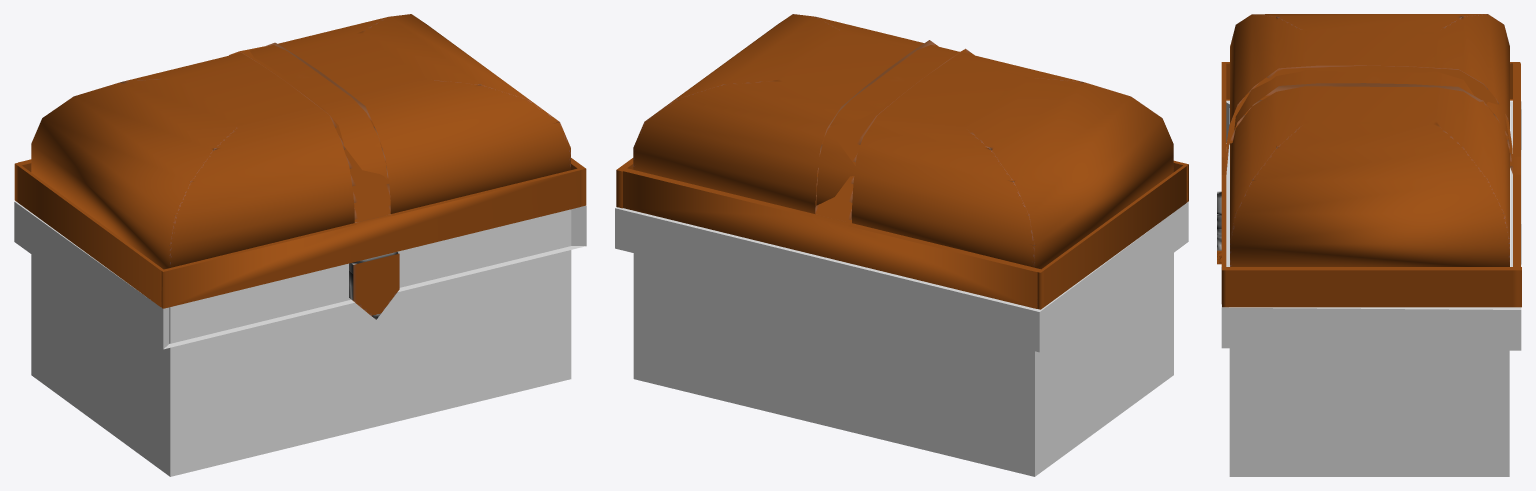
The model's file is tresure (1).glb.
3 renders of one model, left to right at view 1: azimuth 30°, elevation 25°; view 2: azimuth 150°, elevation 25°; view 3: azimuth 270°, elevation 25°, orthographic.
Visible parts, largest first — view 1: 平面.001, 平面.002; view 2: 平面.001, 平面.002; view 3: 平面.001, 平面.002.
Part boxes in pixels (x1=…): 平面.001: x1=14, y1=14, x2=586, y2=319; 平面.002: x1=14, y1=201, x2=586, y2=476; 平面.001: x1=616, y1=14, x2=1188, y2=309; 平面.002: x1=615, y1=201, x2=1188, y2=476; 平面.001: x1=1217, y1=14, x2=1521, y2=307; 平面.002: x1=1221, y1=100, x2=1521, y2=476.
Bounding box in the file's own units: 3.53 × 2.4 × 2.18.
Materials: 1 (1 with a texture image).
